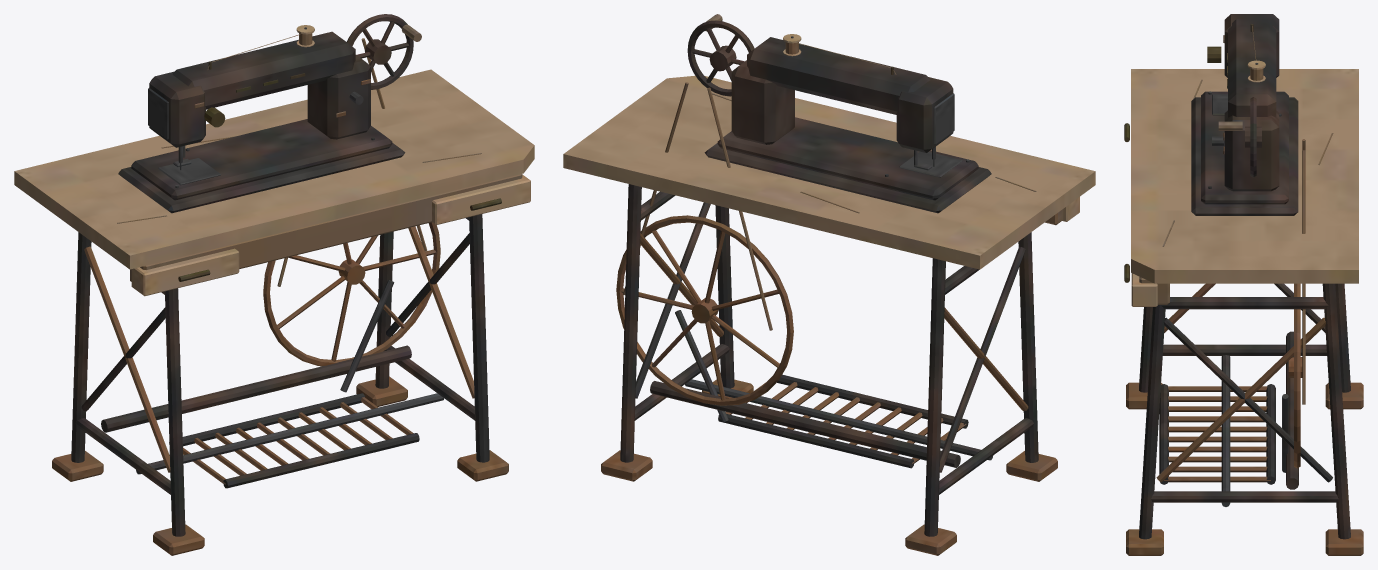
The model's file is A04_treadle_sewing_machine.glb.
The picture shows the model from 3 angles, left to right: view 1: azimuth 30°, elevation 25°; view 2: azimuth 150°, elevation 25°; view 3: azimuth 270°, elevation 25°; orthographic projection.
Visible parts, largest first — view 1: Chipped timber worktop; view 2: Chipped timber worktop; view 3: Chipped timber worktop.
Part boxes in pixels (<box>): Chipped timber worktop: <box>14,14,534,555</box>; Chipped timber worktop: <box>563,14,1095,555</box>; Chipped timber worktop: <box>1124,14,1363,555</box>.
Size of the model in its own units: 1 by 0.991 by 0.504.
6 materials, 6 textured.
